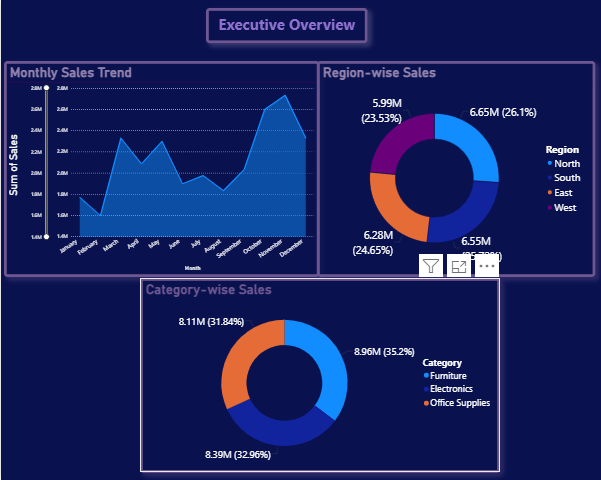

What the dashboard file says about the page in this screenshot:
{"tool":"powerbi","page":{"name":"Page 1","canvas":[1500,1200],"ordinal":0},"visuals":[{"type":"textbox","box":[511.9,20.9,404.5,88.1],"z":0},{"type":"lineChart","title":"Monthly Sales Trend","fields":{"Y":["Sum(SalesData.Sales)"],"Category":["SalesData.Order_Date.Variation.Date Hierarchy.Month"]},"box":[8.5,153.2,789.4,540.4],"z":1000},{"type":"donutChart","title":"Region-wise Sales ","fields":{"Category":["SalesData.Region"],"Y":["Sum(SalesData.Sales)"]},"box":[789.4,153.2,695.7,540.4],"z":2000},{"type":"donutChart","title":"Category-wise Sales ","fields":{"Category":["SalesData.Category"],"Y":["Sum(SalesData.Sales)"]},"box":[347.2,694.5,900,486.6],"z":3000}]}

Visuals, with their boxes in screenshot pixels (x1, y1, x2, y2), scaled from the page's 1500x1200 canvas onto the 601x480 screenshot:
textbox: locate(205, 8, 367, 44)
"Monthly Sales Trend" lineChart: locate(3, 61, 320, 277)
"Region-wise Sales " donutChart: locate(316, 61, 595, 277)
"Category-wise Sales " donutChart: locate(139, 278, 500, 472)
